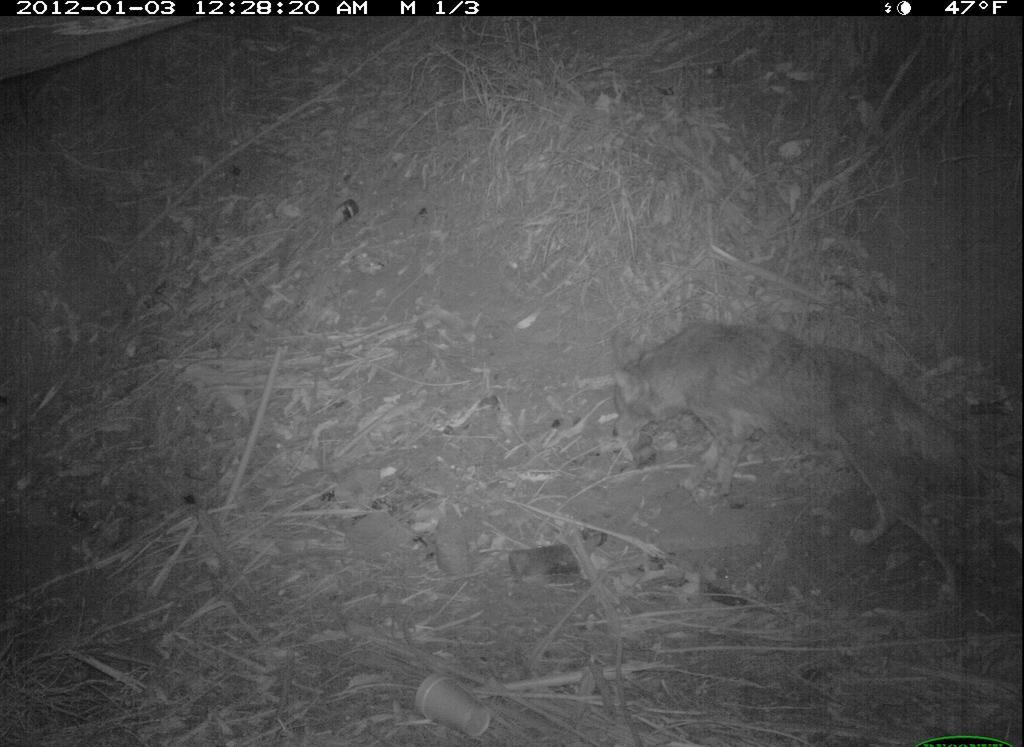coyote: (596, 308, 981, 577)
